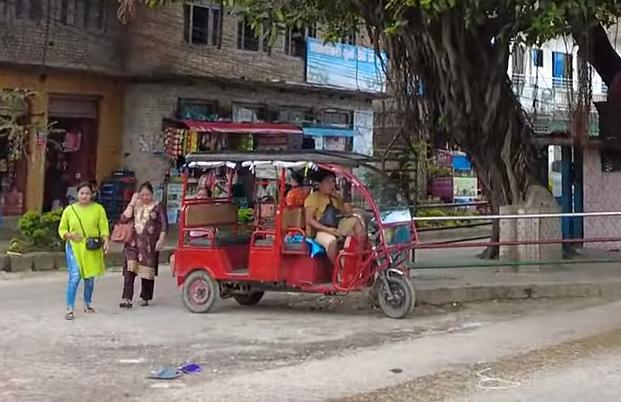e-rickshaw: (184, 148, 426, 331)
